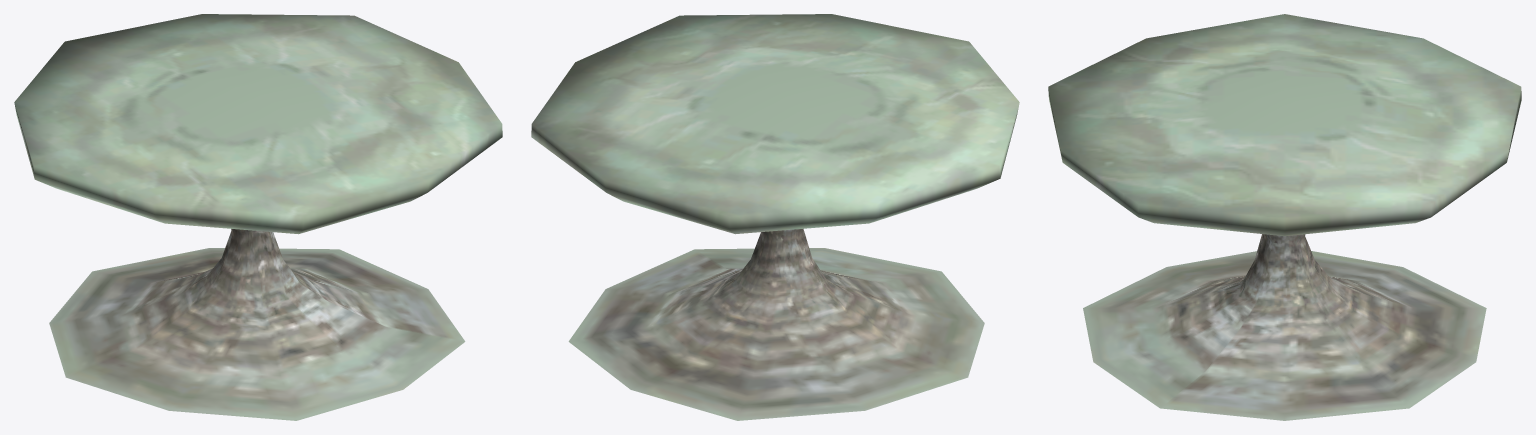
Rendered from INST_TROLLHOLE_SHELFSTONE1M.fbx.
3 renders of one model, left to right at view 1: azimuth 30°, elevation 25°; view 2: azimuth 150°, elevation 25°; view 3: azimuth 270°, elevation 25°, orthographic.
Parts seen in each view (by area): view 1: INST_TROLLHOLE_SHELFSTONE1M; view 2: INST_TROLLHOLE_SHELFSTONE1M; view 3: INST_TROLLHOLE_SHELFSTONE1M.
Boxes of the visible parts, <box> form: INST_TROLLHOLE_SHELFSTONE1M: <box>14,14,502,420</box>; INST_TROLLHOLE_SHELFSTONE1M: <box>531,14,1019,420</box>; INST_TROLLHOLE_SHELFSTONE1M: <box>1048,14,1521,420</box>.
Bounding box in the file's own units: 21244 × 11501 × 20753.
2 materials, 2 textured.
